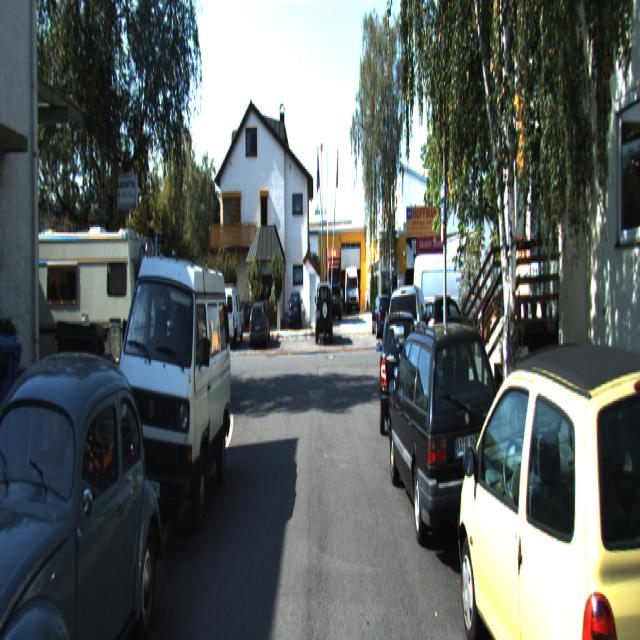Car: (453, 316, 640, 638), (0, 340, 176, 638), (111, 241, 233, 551), (384, 313, 515, 561), (8, 228, 166, 414), (412, 250, 491, 349), (378, 308, 424, 436), (387, 282, 434, 396), (218, 284, 244, 349), (314, 278, 332, 342), (249, 302, 269, 350)
